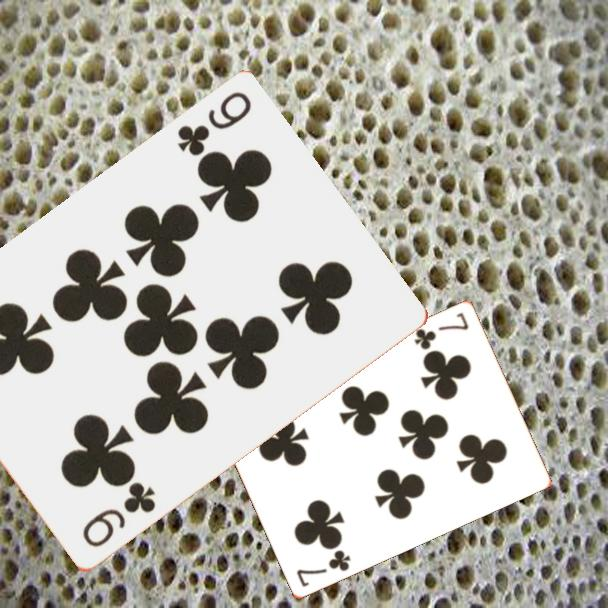c07: (411, 308, 472, 352), (293, 546, 354, 589)
c09: (78, 478, 159, 551), (173, 88, 255, 160)
